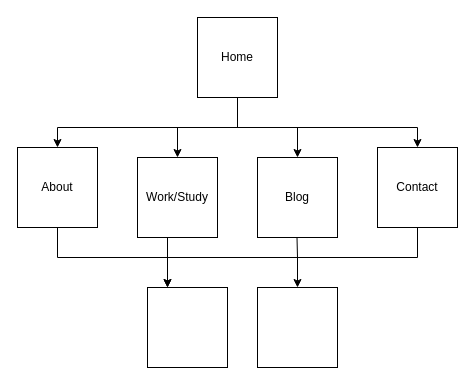
The diagram is 475 pixels wide and 385 high, and some of its shapes have lost their labels. Each missing label, with the centre of its shape:
"Git repo" goes at point 297,327.
"LinkedIn" goes at point 187,327.
